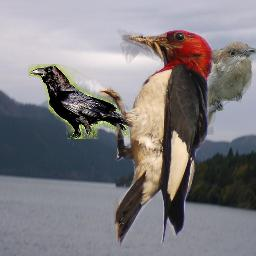Crow: (28, 64, 149, 139)
Cuckoo: (191, 41, 256, 135)
Woodpecker: (99, 29, 213, 247)
